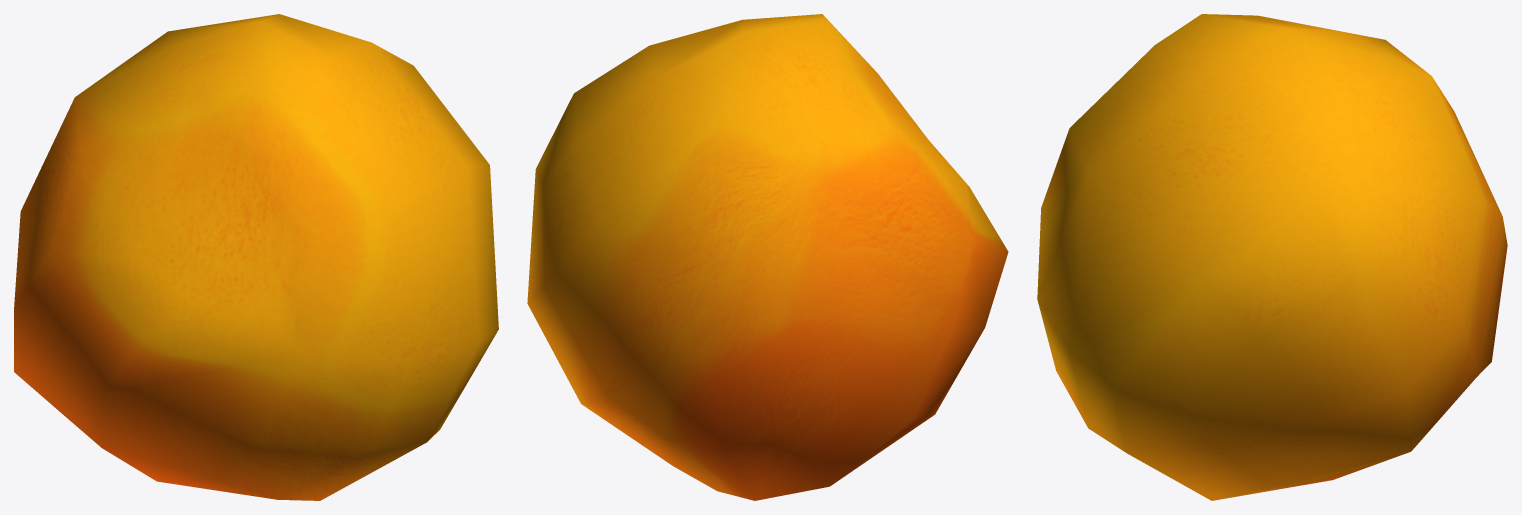
The model's file is GoldRock.FBX.
3 renders of one model, left to right at view 1: azimuth 30°, elevation 25°; view 2: azimuth 150°, elevation 25°; view 3: azimuth 270°, elevation 25°, orthographic. The views are drawn at different scales.
Visible parts, largest first — view 1: GoldRock; view 2: GoldRock; view 3: GoldRock.
Boxes of the visible parts, box(x1,y1,x2,y2) form: GoldRock: box(14, 14, 498, 500); GoldRock: box(527, 14, 1008, 500); GoldRock: box(1037, 14, 1507, 500).
Bounding box in the file's own units: 66.94 × 69.52 × 64.39.
Materials: 1 (1 with a texture image).
